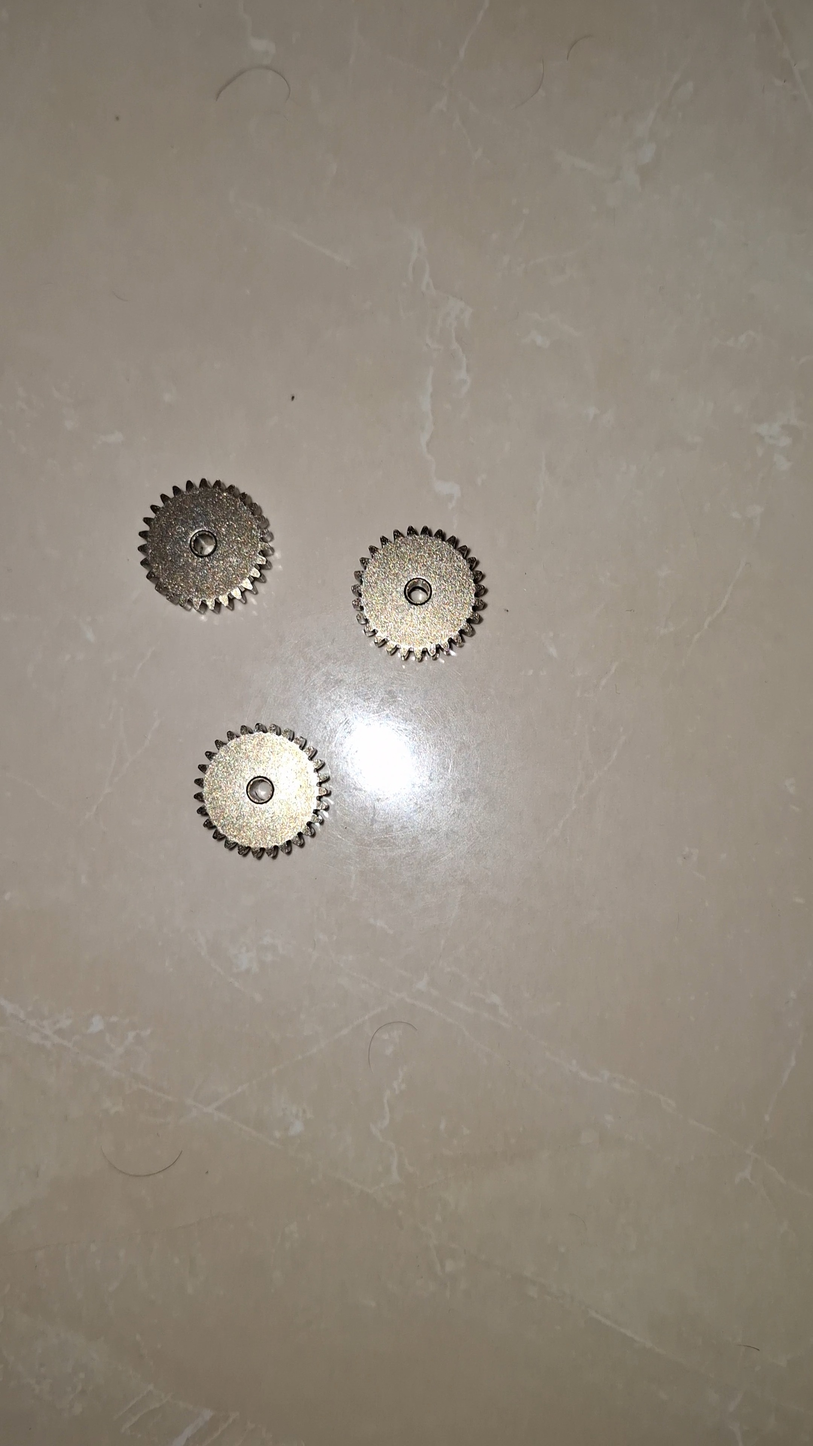spur gear: (195, 724, 330, 858), (139, 479, 273, 610), (353, 527, 485, 659)
